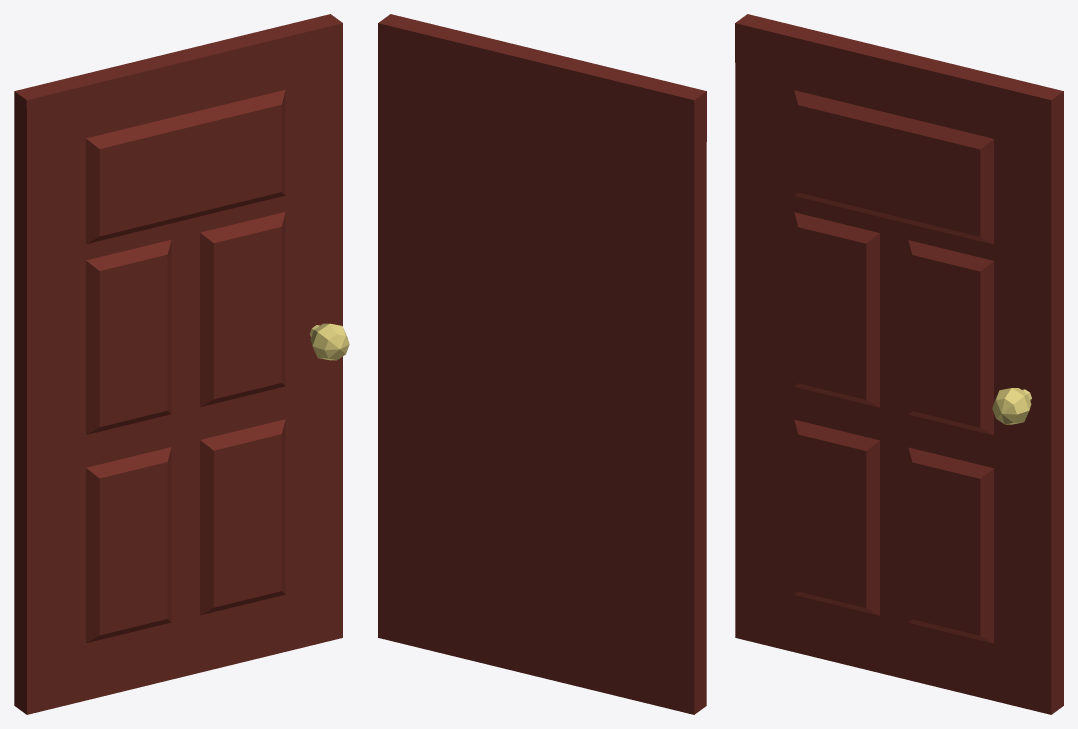
File: Itr_Door_03.FBX
The picture shows the model from 3 angles, left to right: view 1: azimuth 30°, elevation 25°; view 2: azimuth 150°, elevation 25°; view 3: azimuth 330°, elevation 25°; orthographic projection.
Visible parts, largest first — view 1: Itr_Door_03; view 2: Itr_Door_03; view 3: Itr_Door_03.
Part boxes in pixels (x1,y1,x2,y2): Itr_Door_03: (14,14,349,714); Itr_Door_03: (378,14,706,714); Itr_Door_03: (735,14,1063,714).
Bounding box in the file's own units: 43.59 × 80.97 × 8.56.
